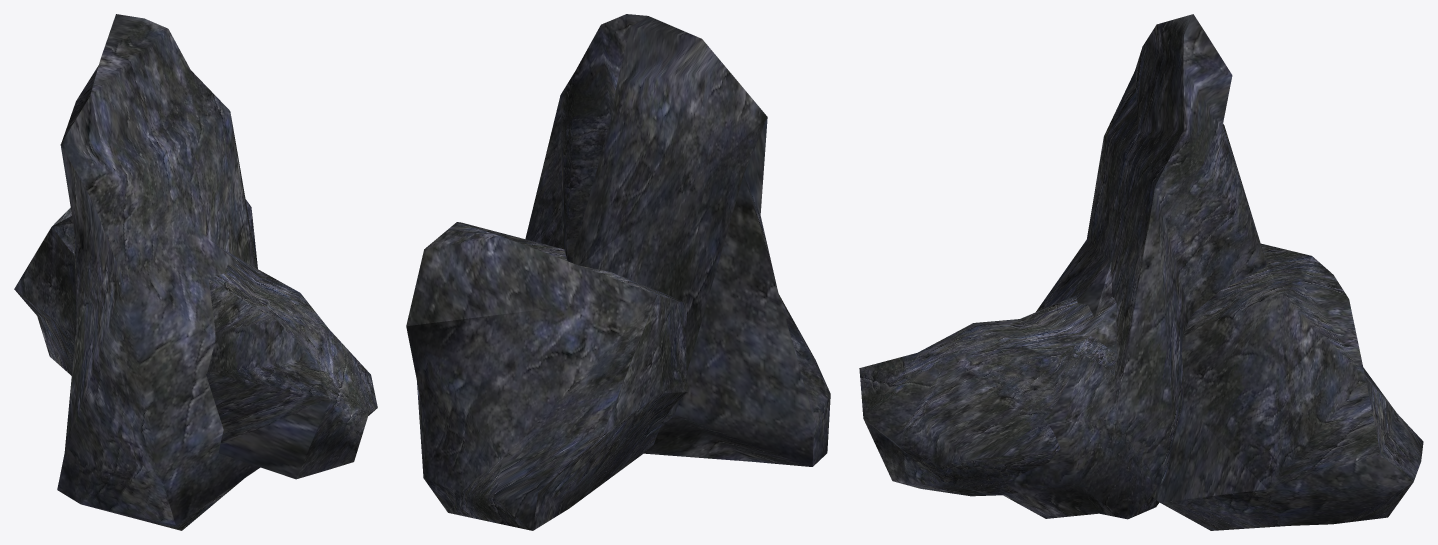
The model's file is pir_m_prp_vol_rockGroup_e.fbx.
3 renders of one model, left to right at view 1: azimuth 30°, elevation 25°; view 2: azimuth 150°, elevation 25°; view 3: azimuth 270°, elevation 25°, orthographic. The views are drawn at different scales.
Visible parts, largest first — view 1: rock3, rock2, rock1; view 2: rock3, rock1; view 3: rock3, rock1, rock2.
Boxes of the visible parts, bbox=[...] form: rock3: bbox=[57, 14, 260, 530]; rock2: bbox=[206, 249, 377, 479]; rock1: bbox=[14, 199, 257, 375]; rock3: bbox=[525, 14, 830, 466]; rock1: bbox=[406, 222, 687, 530]; rock3: bbox=[1003, 14, 1266, 519]; rock1: bbox=[1151, 243, 1423, 530]; rock2: bbox=[859, 295, 1116, 496].
Bounding box in the file's own units: 3032 × 4529 × 4763.
1 material, 1 textured.
